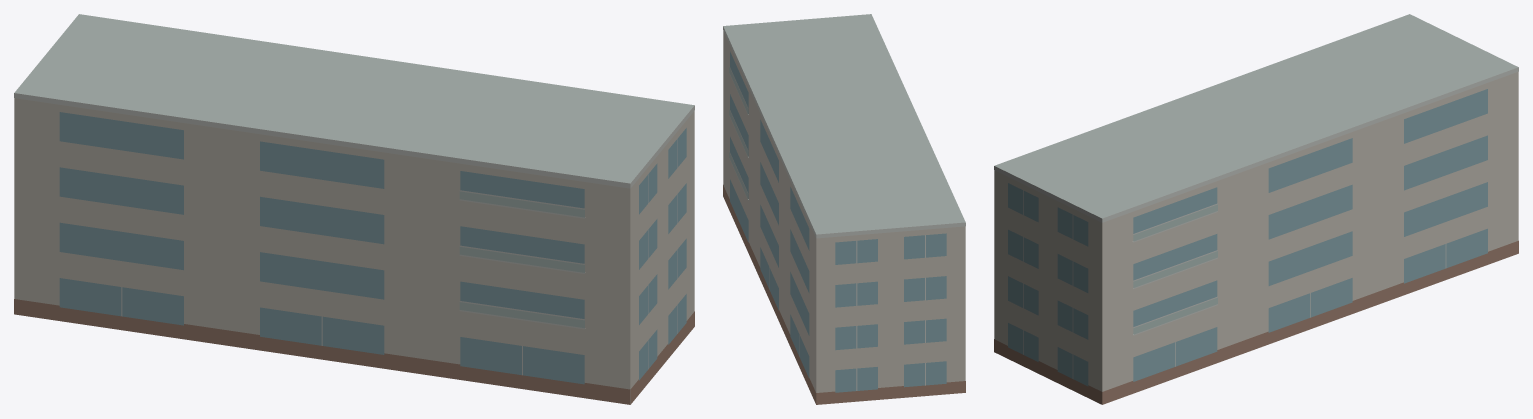
Rendered from survey-upis-32955997.glb.
3 renders of one model, left to right at view 1: azimuth 30°, elevation 25°; view 2: azimuth 150°, elevation 25°; view 3: azimuth 270°, elevation 25°, orthographic. The views are drawn at different scales.
Parts seen in each view (by area): view 1: survey-upis-32955997.tmp; view 2: survey-upis-32955997.tmp; view 3: survey-upis-32955997.tmp.
Boxes of the visible parts, box(x1,y1,x2,y2) form: survey-upis-32955997.tmp: box(14, 14, 694, 404); survey-upis-32955997.tmp: box(723, 14, 965, 404); survey-upis-32955997.tmp: box(994, 14, 1518, 404).
Size of the model in its own units: 24.96 by 10.6 by 27.05.
